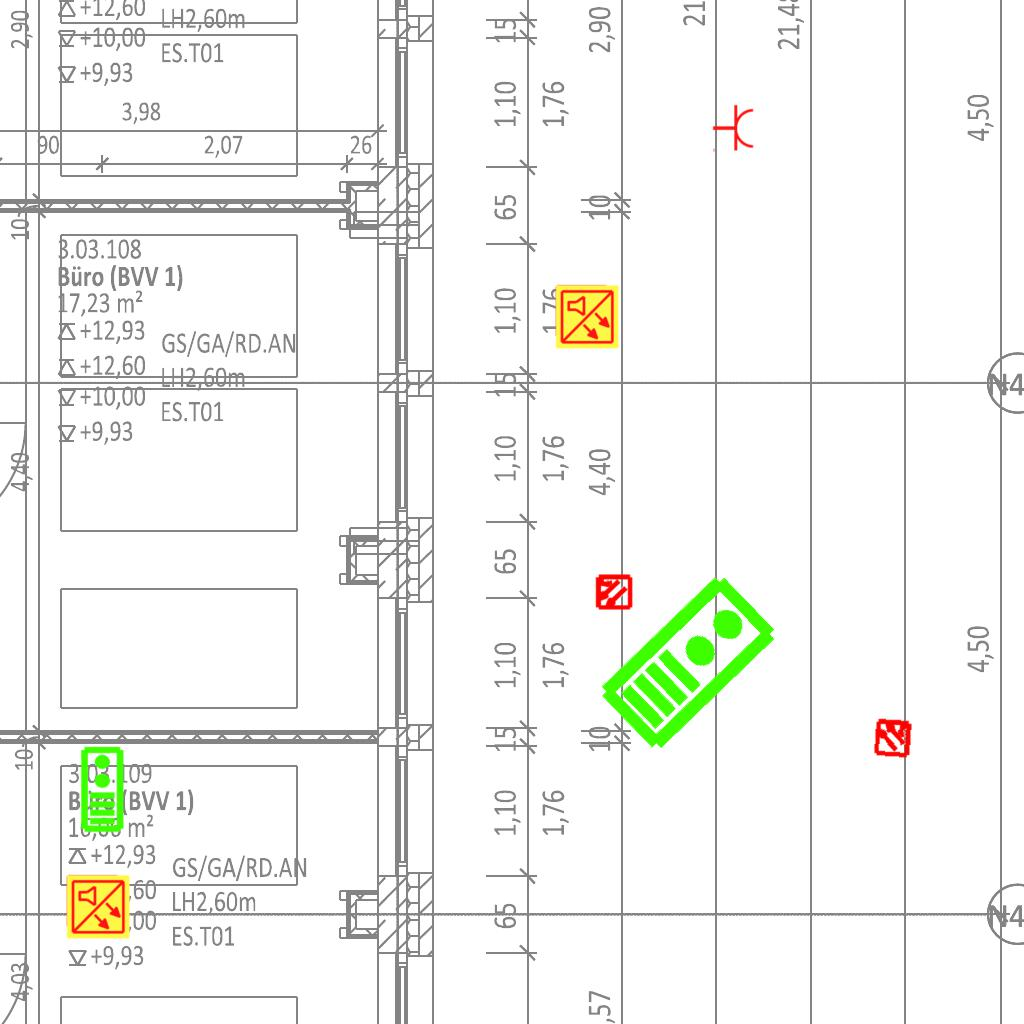Gegensprechanlage_mit_Video: (591, 565, 784, 757), (78, 745, 125, 833)
OKW_Multisensormelder_(Kombination_optischer_Rauch-Kahlenmonoxid_Waerme-Melder): (554, 284, 620, 350), (65, 874, 131, 940)
OT_Multisensormelder_(Kombination_RMO_WMD): (863, 707, 923, 767), (585, 564, 641, 620)
Schukosteckdose_einfach: (712, 104, 755, 154)
